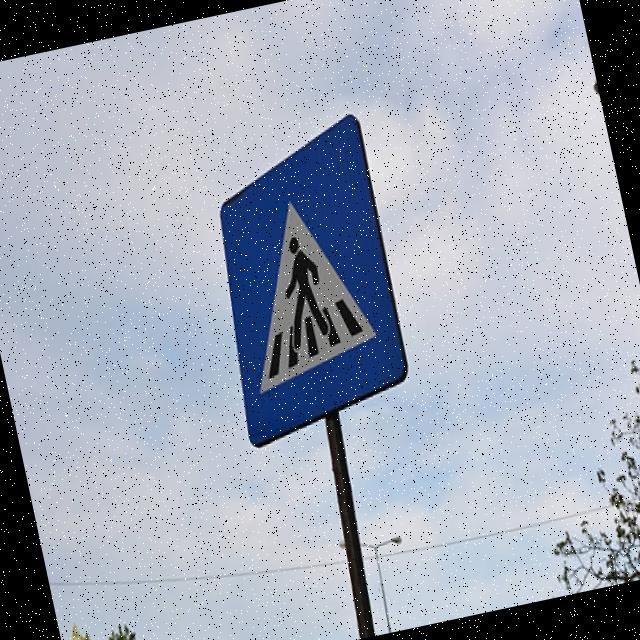crosswalk: (175, 104, 434, 460)
